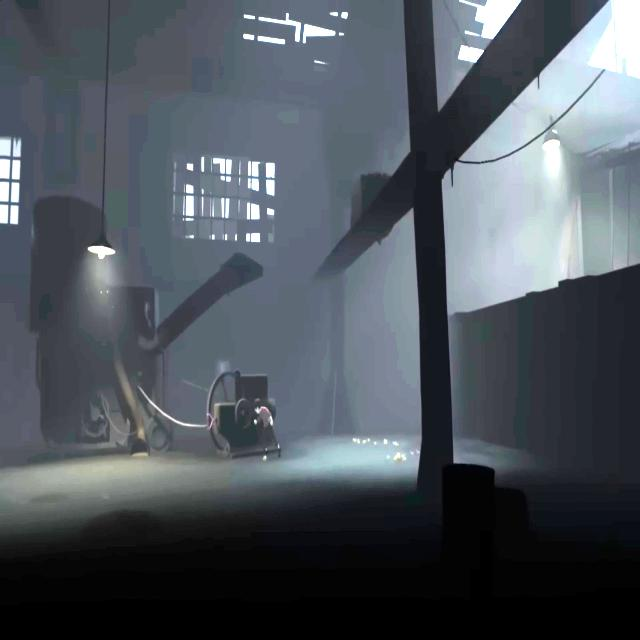boy: (253, 398, 282, 454)
